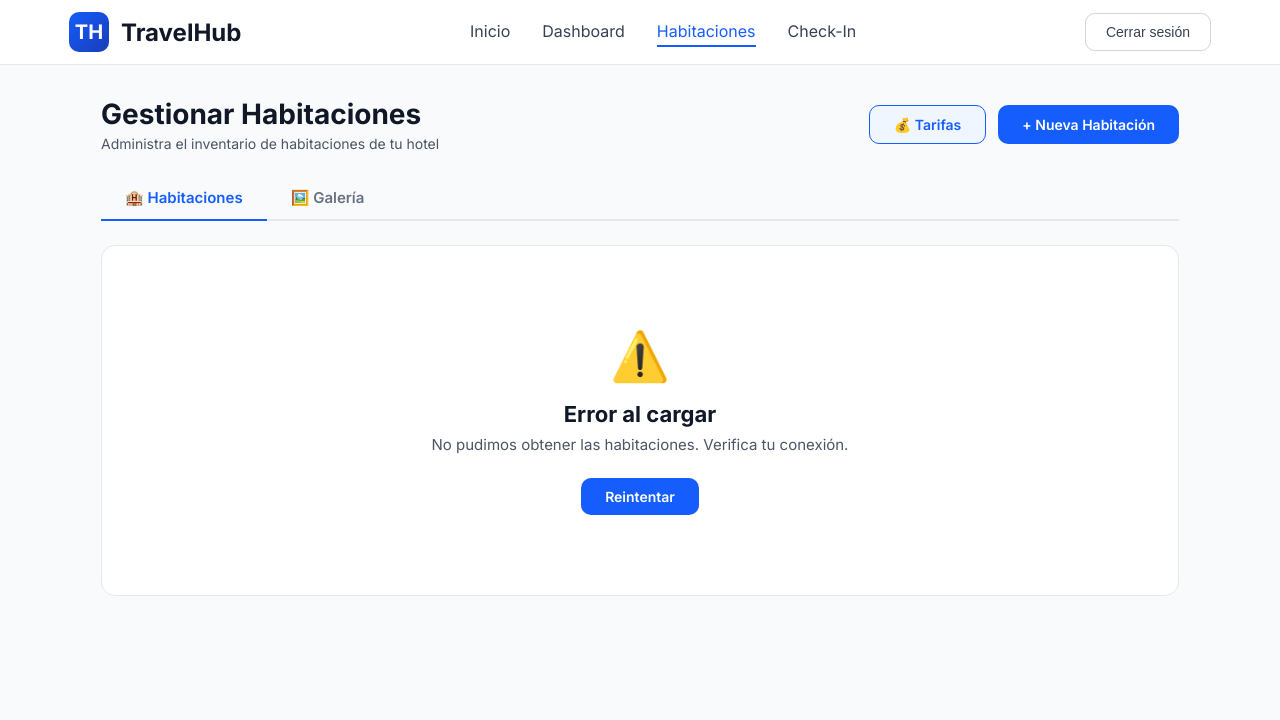
Test: Gestionar Habitaciones › Dado que el hotel quiere crear una habitación › Cuando cancela el formulario, el modal se cierra
The width and height of the screenshot is (1280, 720).
Click the button "+ Nueva Habitación" at x=1089, y=125, box left=998, top=105, right=1179, bottom=144
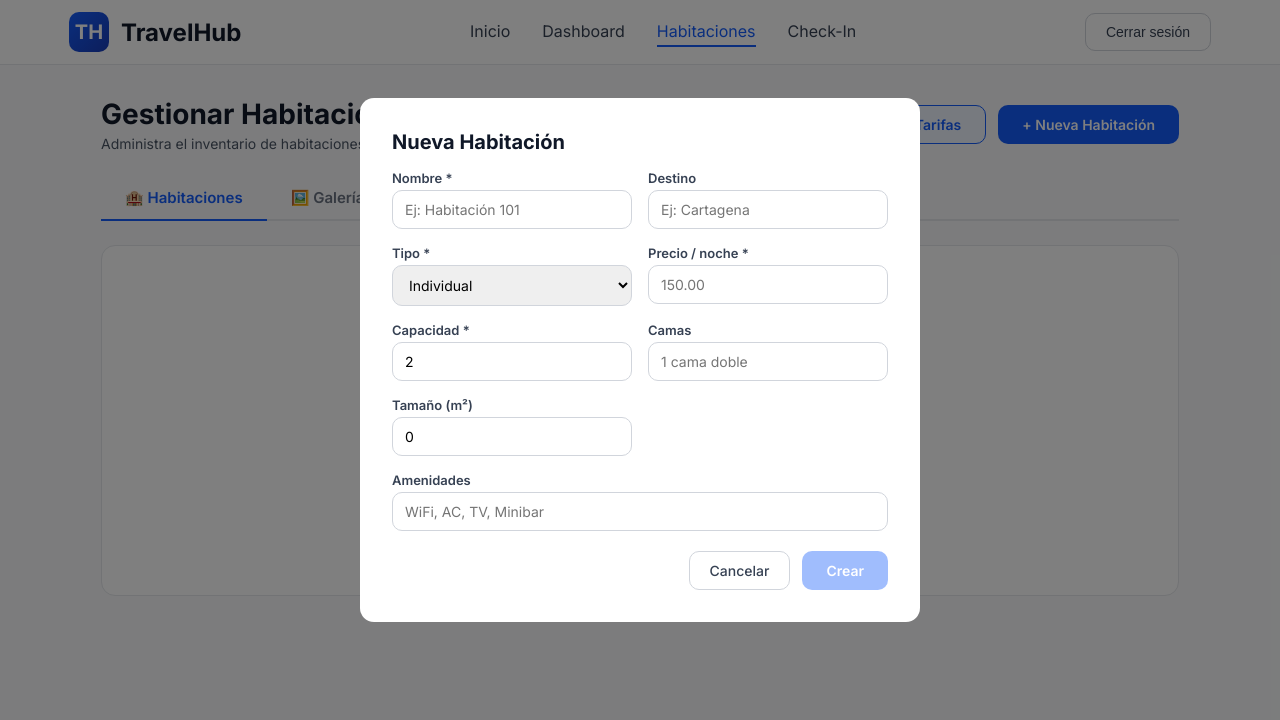
Click the button "Cancelar" at x=740, y=571, box left=689, top=551, right=791, bottom=590
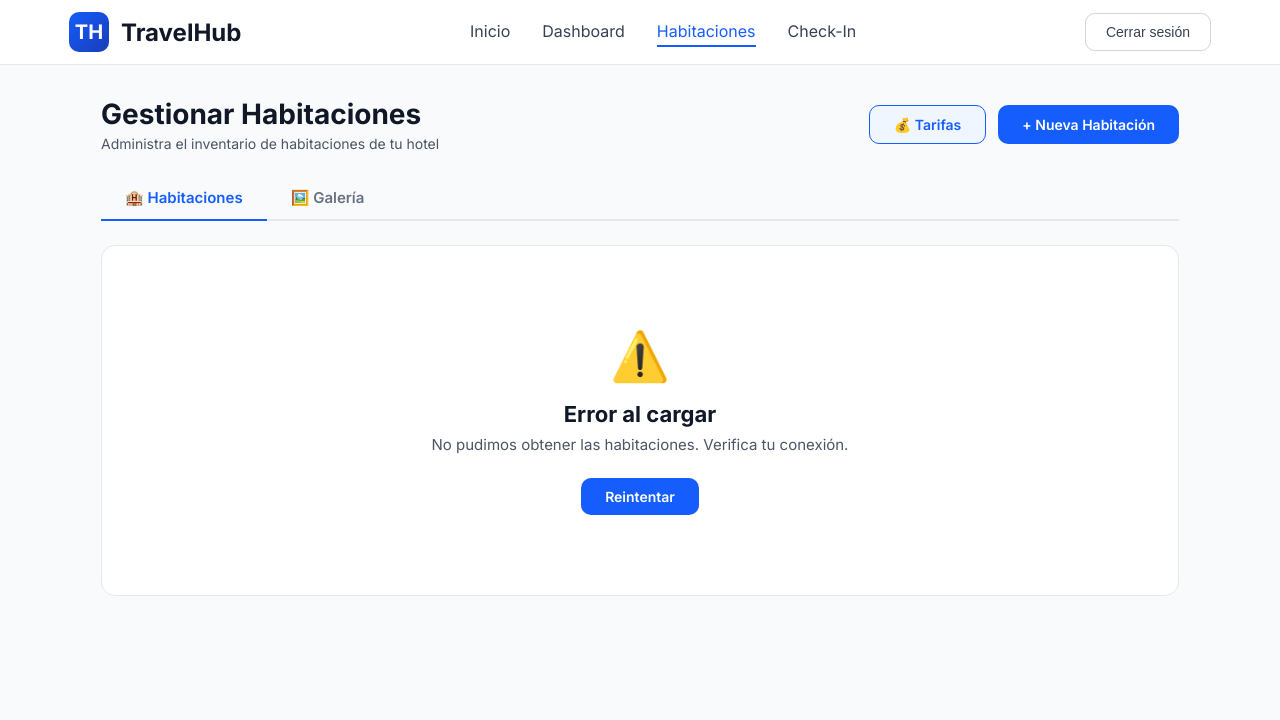
Expected: the element with class "modal" is gone
